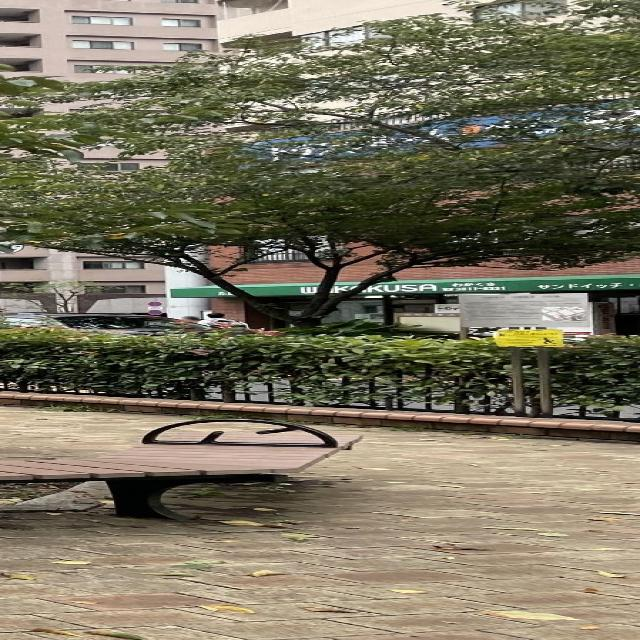sakura: (0, 12, 640, 328)
